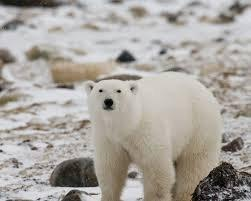bear: (79, 74, 223, 201)
